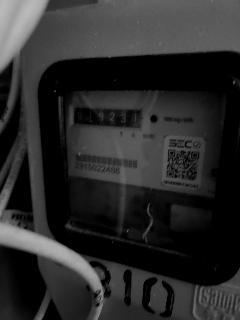1: (78, 112, 83, 120)
2: (133, 114, 139, 123), (88, 112, 93, 120)
3: (110, 113, 115, 122)
4: (122, 115, 127, 123)
:: (99, 113, 104, 121)
